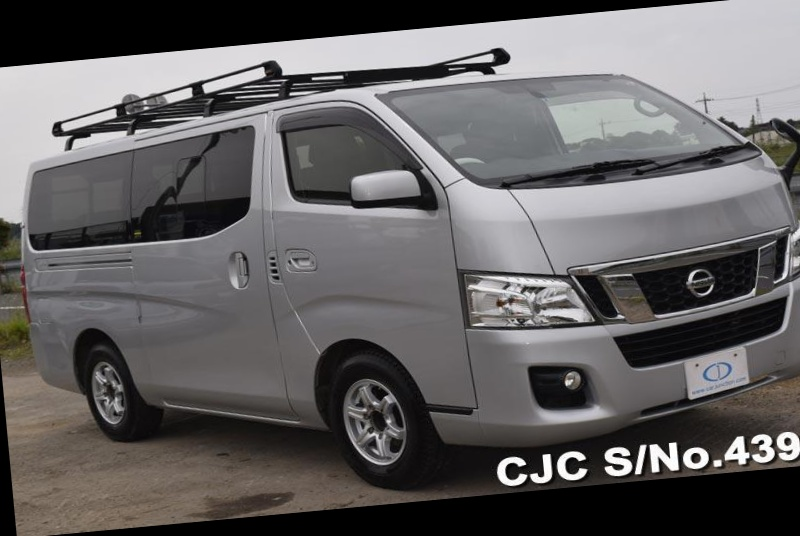van: (16, 46, 800, 497)
